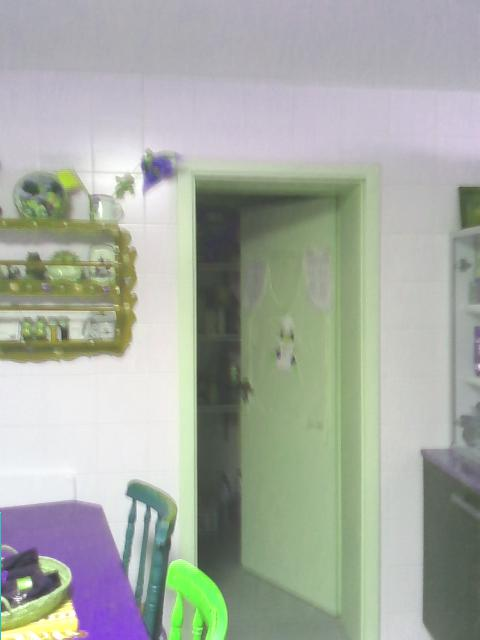semi_door: (171, 154, 384, 639)
